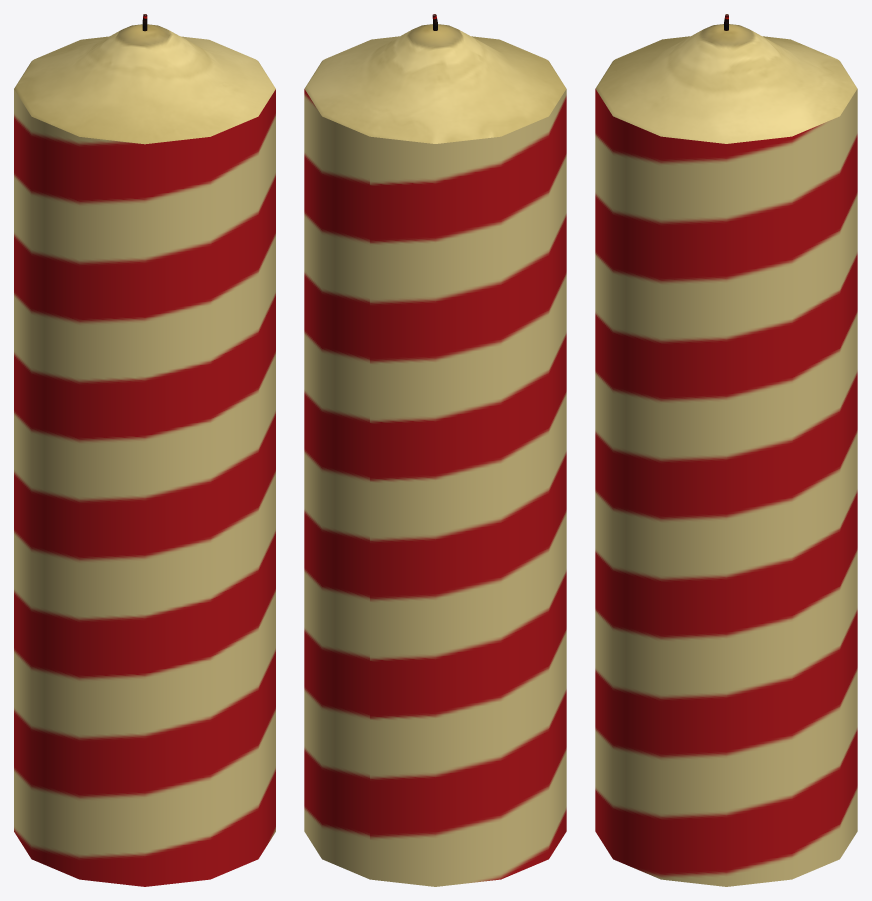
File: tube_candle2.fbx
3 views of the same model, side by side, from view 1: azimuth 30°, elevation 25°; view 2: azimuth 150°, elevation 25°; view 3: azimuth 270°, elevation 25° (orthographic).
Parts seen in each view (by area): view 1: candle_tube2; view 2: candle_tube2; view 3: candle_tube2.
Part boxes in pixels (box(x1,y1,x2,y2)): candle_tube2: box(14, 14, 275, 886); candle_tube2: box(304, 14, 566, 886); candle_tube2: box(595, 14, 857, 886).
Bounding box in the file's own units: 7.17 × 24.66 × 7.17.
